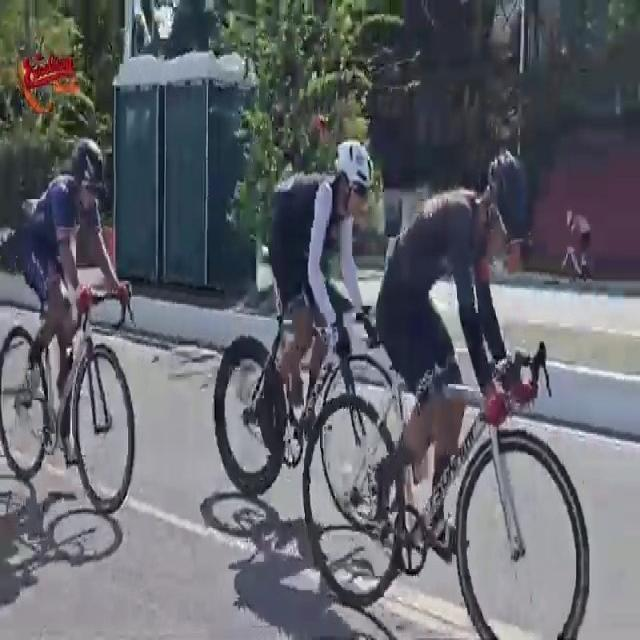bike: (305, 146, 591, 640), (213, 134, 404, 536), (0, 132, 139, 526)
